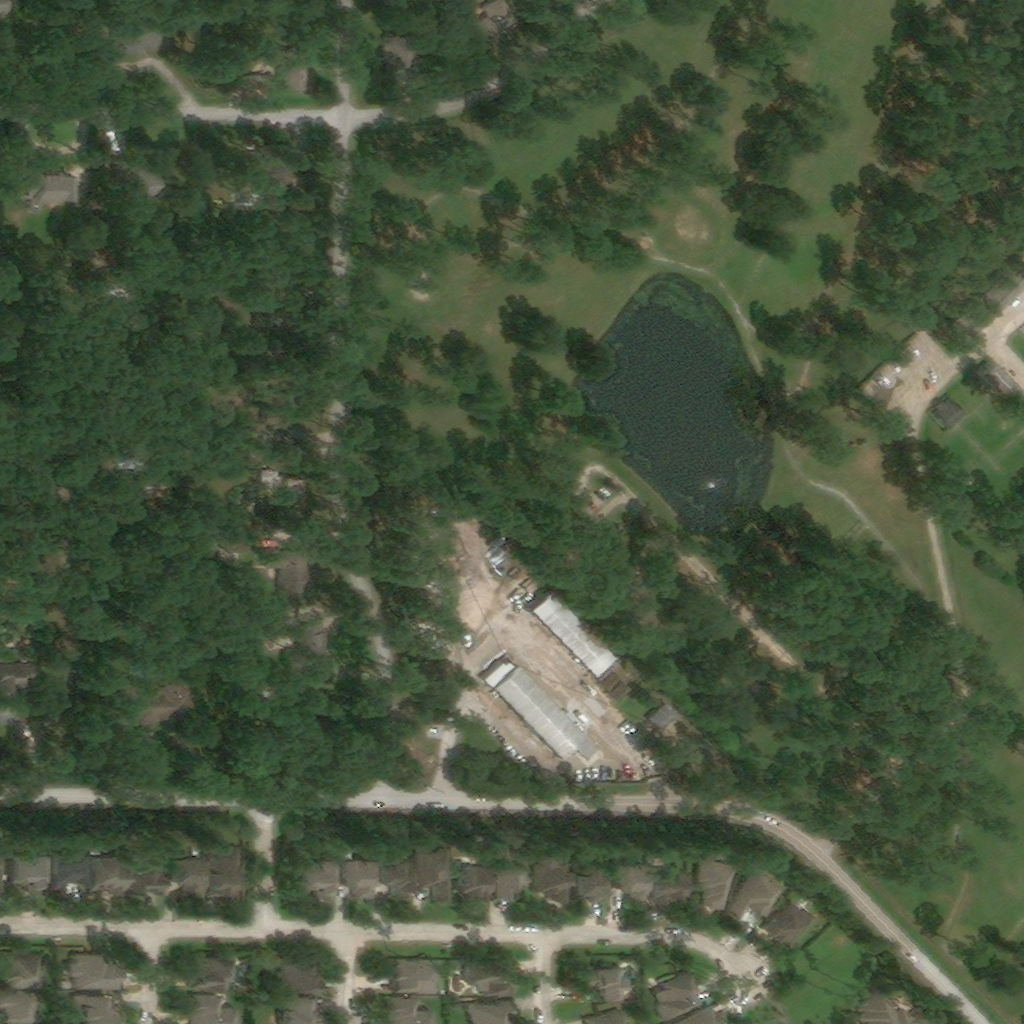no_damage: (483, 657, 597, 761), (944, 248, 1022, 349), (527, 589, 614, 674), (234, 48, 307, 97), (105, 0, 162, 60), (728, 868, 786, 925), (762, 900, 820, 955), (17, 163, 70, 214), (653, 972, 704, 1023), (693, 855, 737, 912), (137, 678, 188, 726), (978, 361, 1022, 416), (463, 959, 520, 996), (206, 841, 243, 895), (495, 847, 530, 904), (414, 847, 450, 902), (127, 851, 165, 902), (531, 852, 569, 903), (391, 961, 445, 996), (73, 951, 120, 991), (338, 848, 373, 901), (264, 551, 305, 596), (853, 991, 910, 1023), (88, 852, 125, 899), (582, 963, 625, 1003), (0, 952, 44, 991), (10, 849, 46, 895), (298, 855, 334, 901), (612, 860, 647, 907), (192, 951, 232, 992), (279, 952, 318, 993), (378, 852, 410, 899), (252, 145, 290, 184), (454, 861, 489, 902), (574, 861, 605, 904), (651, 864, 684, 904), (169, 851, 201, 890), (190, 995, 234, 1023), (78, 993, 119, 1023), (387, 998, 436, 1023), (933, 398, 969, 432), (50, 846, 84, 882), (466, 997, 511, 1023), (298, 626, 323, 667), (282, 994, 317, 1023), (675, 1006, 734, 1023), (0, 993, 30, 1023), (646, 704, 675, 732), (0, 652, 26, 681), (224, 527, 248, 554), (586, 1010, 627, 1023), (385, 38, 414, 56), (601, 672, 622, 695), (594, 665, 614, 685), (0, 846, 8, 896), (122, 677, 135, 705), (904, 1012, 930, 1023), (451, 1004, 462, 1012), (1009, 413, 1016, 421), (680, 842, 687, 850)
unclassified: (122, 169, 159, 197), (97, 265, 128, 298), (609, 681, 633, 706), (242, 423, 269, 443), (262, 188, 284, 212), (423, 619, 442, 634), (425, 632, 444, 644), (289, 655, 301, 674)
